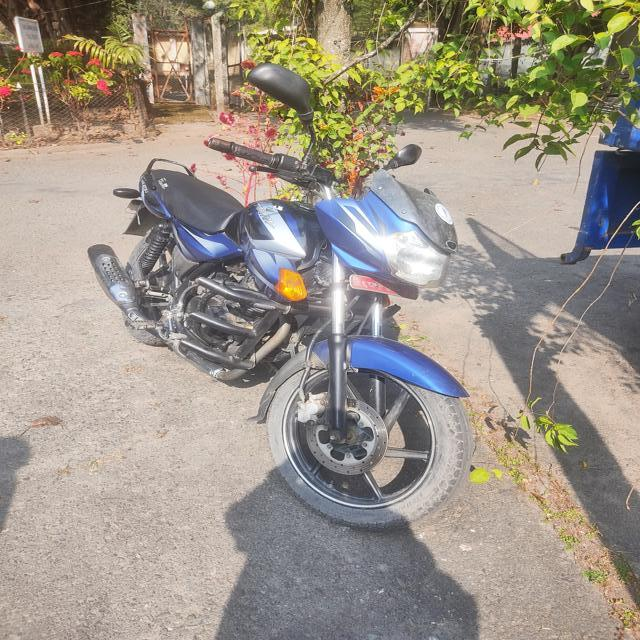license_plate: (312, 234, 470, 320)
